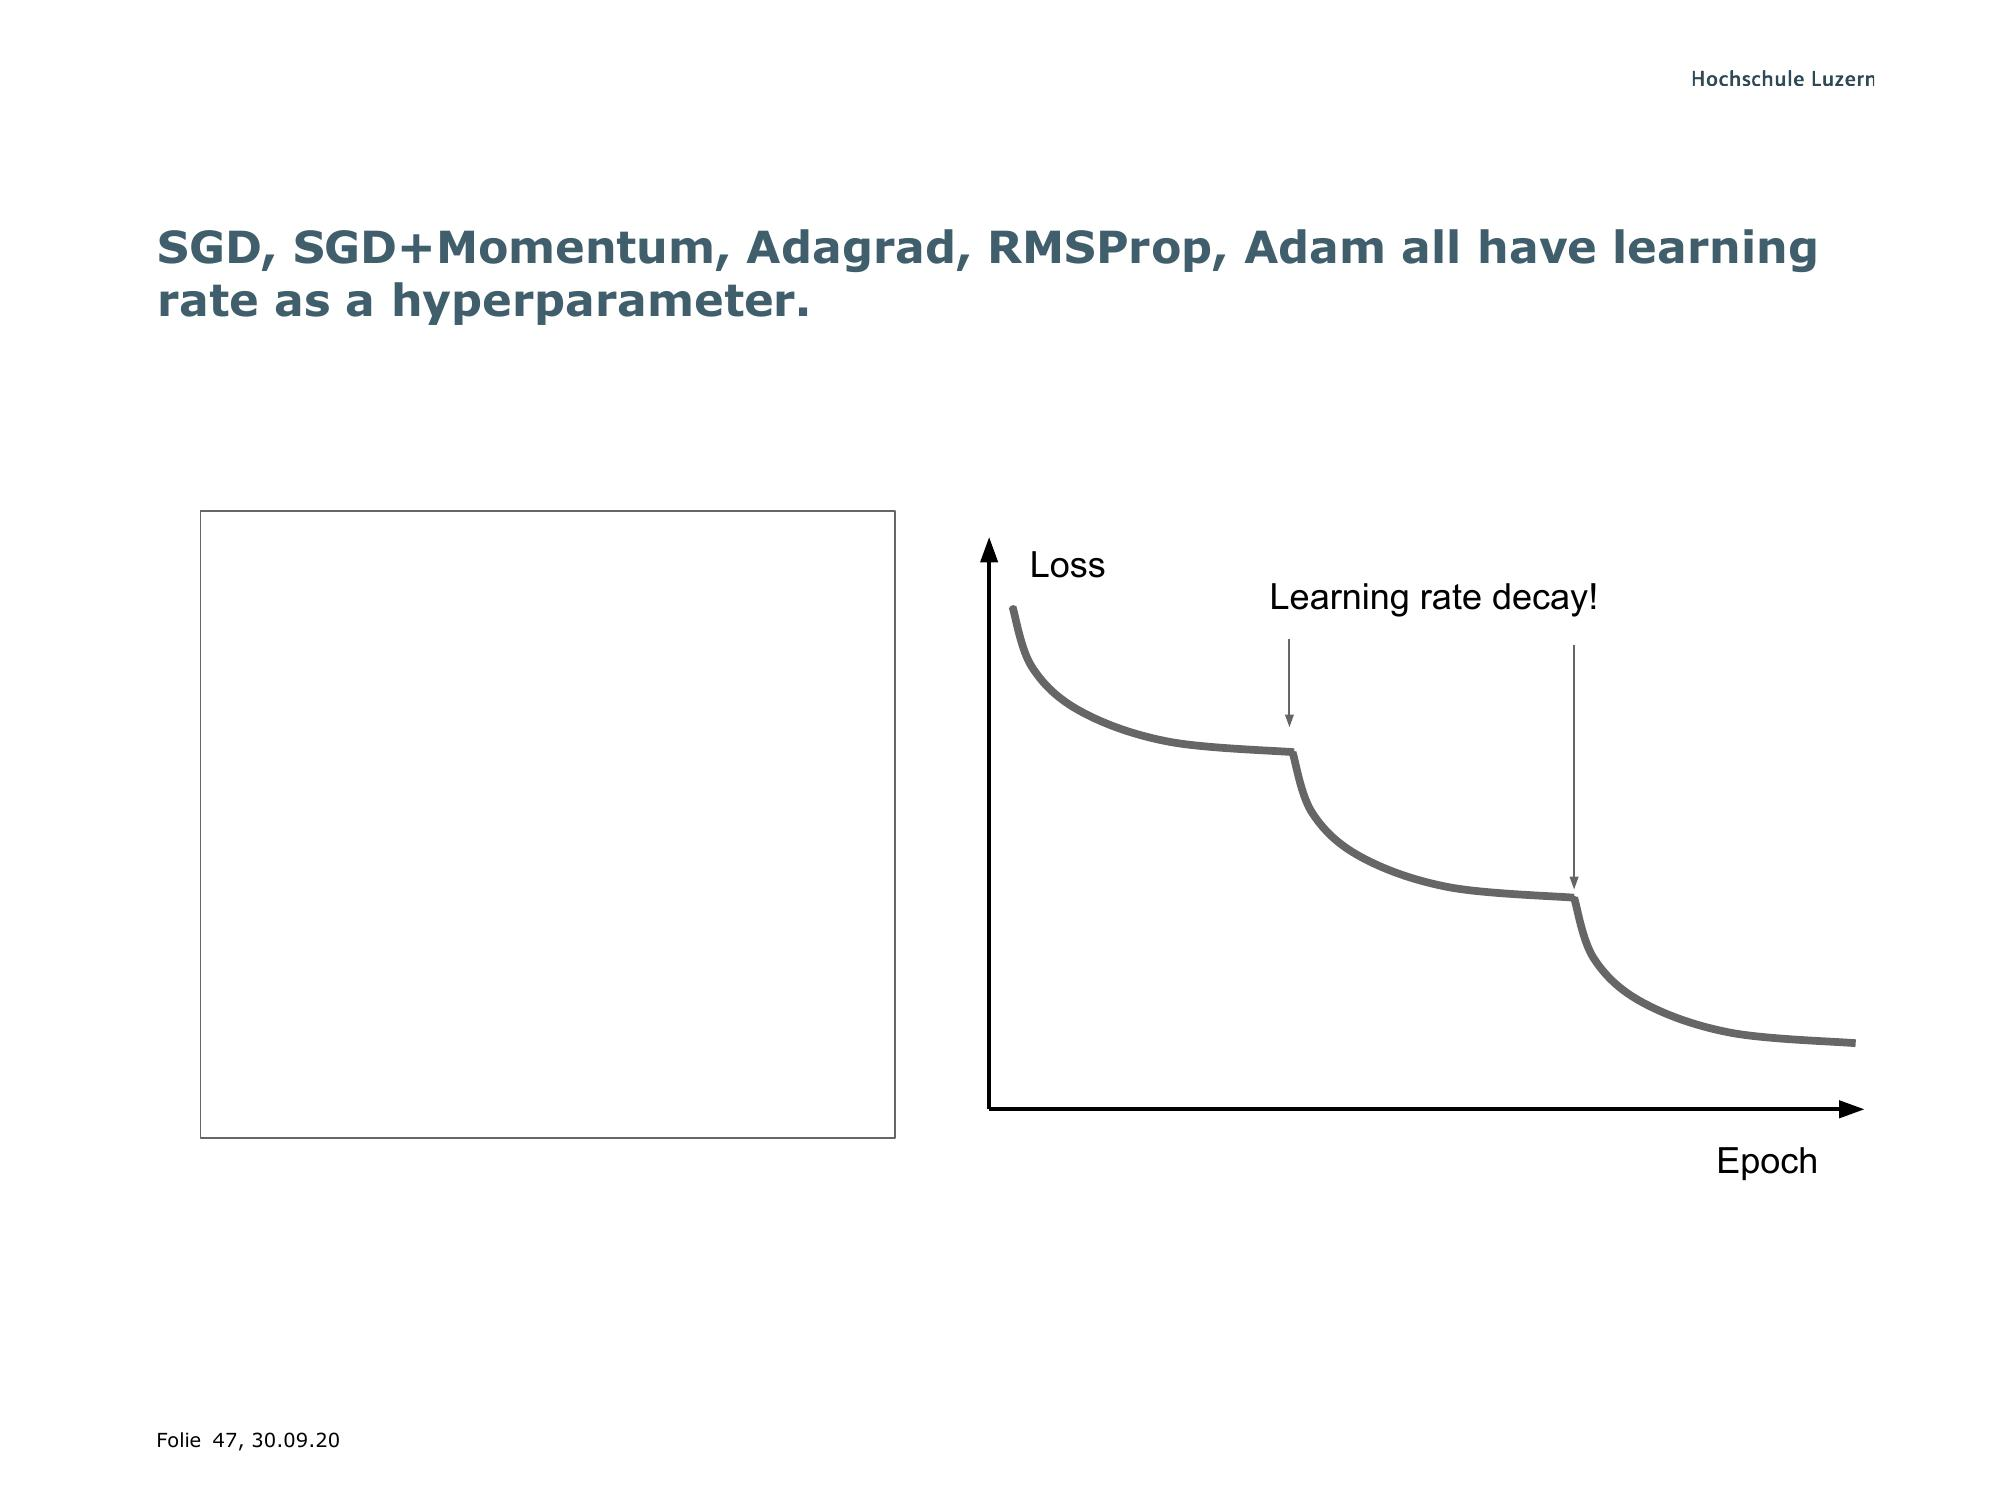Title: (109, 210, 1830, 351)
